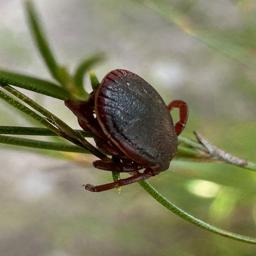Rhipicephalus sanguineus: (64, 68, 188, 193)
